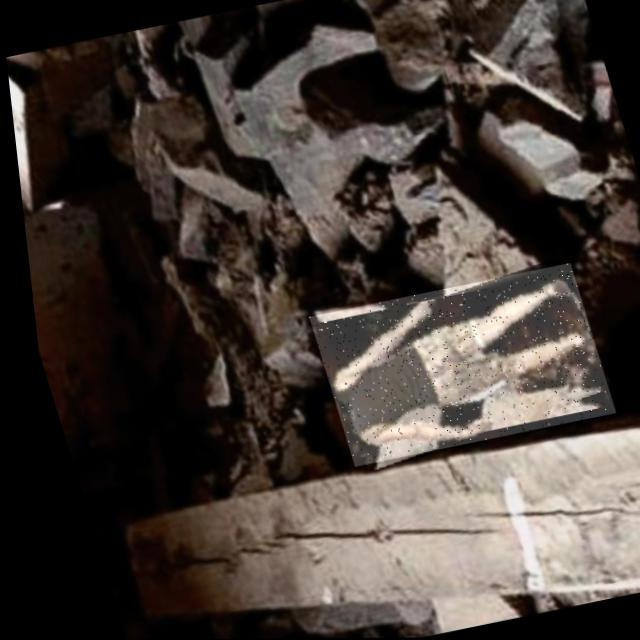Person in Rubble: (297, 263, 611, 466)
